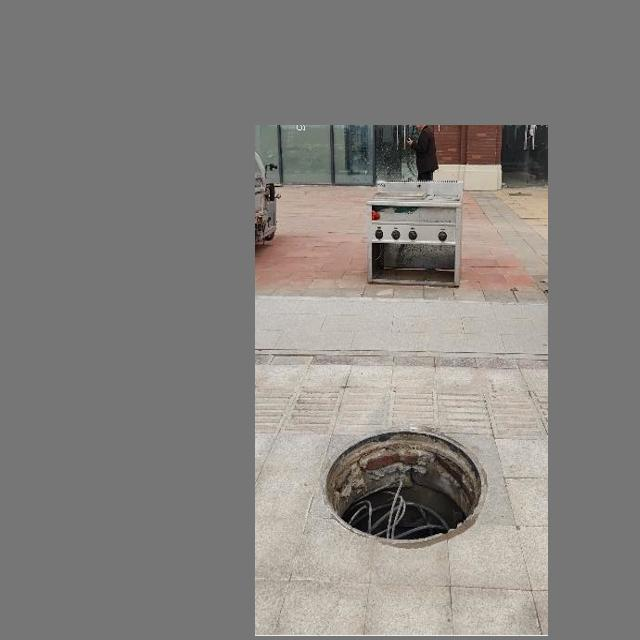lose: (312, 418, 501, 551)
